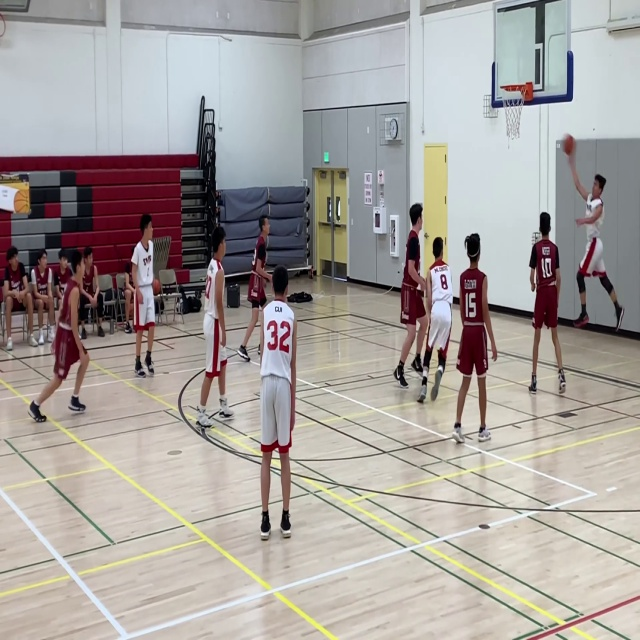Basketball: (563, 134, 574, 155), (151, 279, 161, 296)
